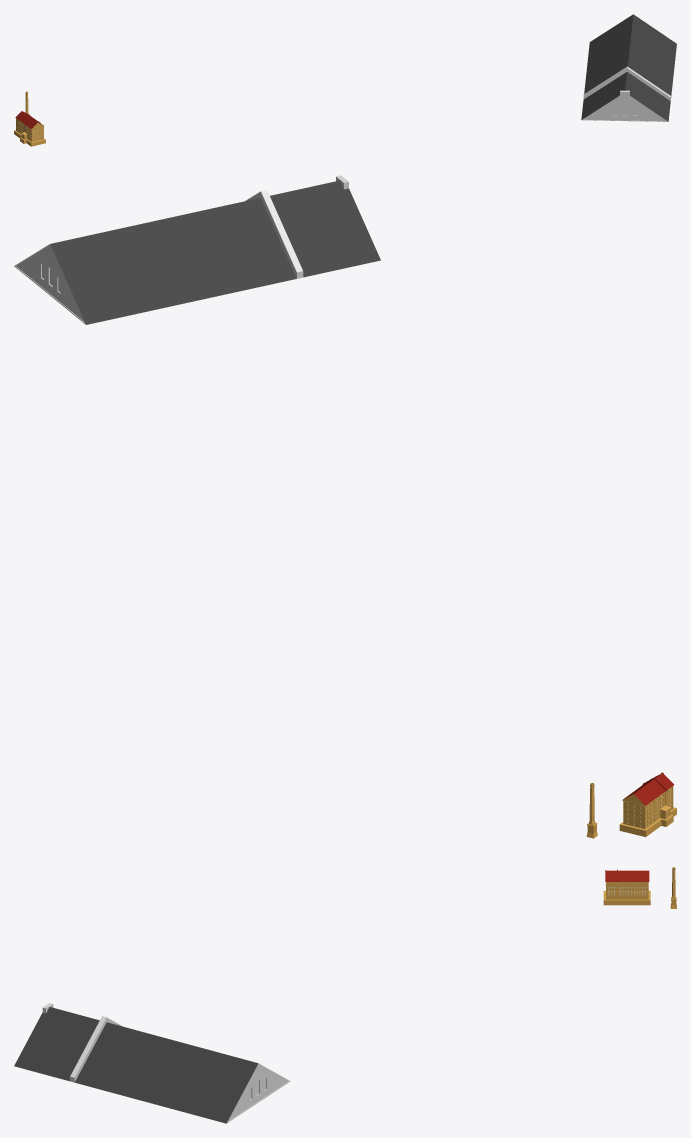
The model's file is melnica_next.fbx.
3 views of the same model, one above another, from view 1: azimuth 30°, elevation 25°; view 2: azimuth 150°, elevation 25°; view 3: azimuth 270°, elevation 25° (orthographic). The views are drawn at different scales.
Visible parts, largest first — view 1: mRoof.000, TrubaKot; view 2: mRoof.000, TrubaKot; view 3: mRoof.000, TrubaKot.
Part boxes in pixels (x1=…): mRoof.000: x1=581, y1=14, x2=676, y2=121; TrubaKot: x1=14, y1=91, x2=45, y2=146; mRoof.000: x1=14, y1=175, x2=380, y2=324; TrubaKot: x1=586, y1=772, x2=676, y2=838; mRoof.000: x1=14, y1=1003, x2=290, y2=1123; TrubaKot: x1=603, y1=867, x2=676, y2=908.
Bounding box in the file's own units: 14841 × 3132 × 12248.
